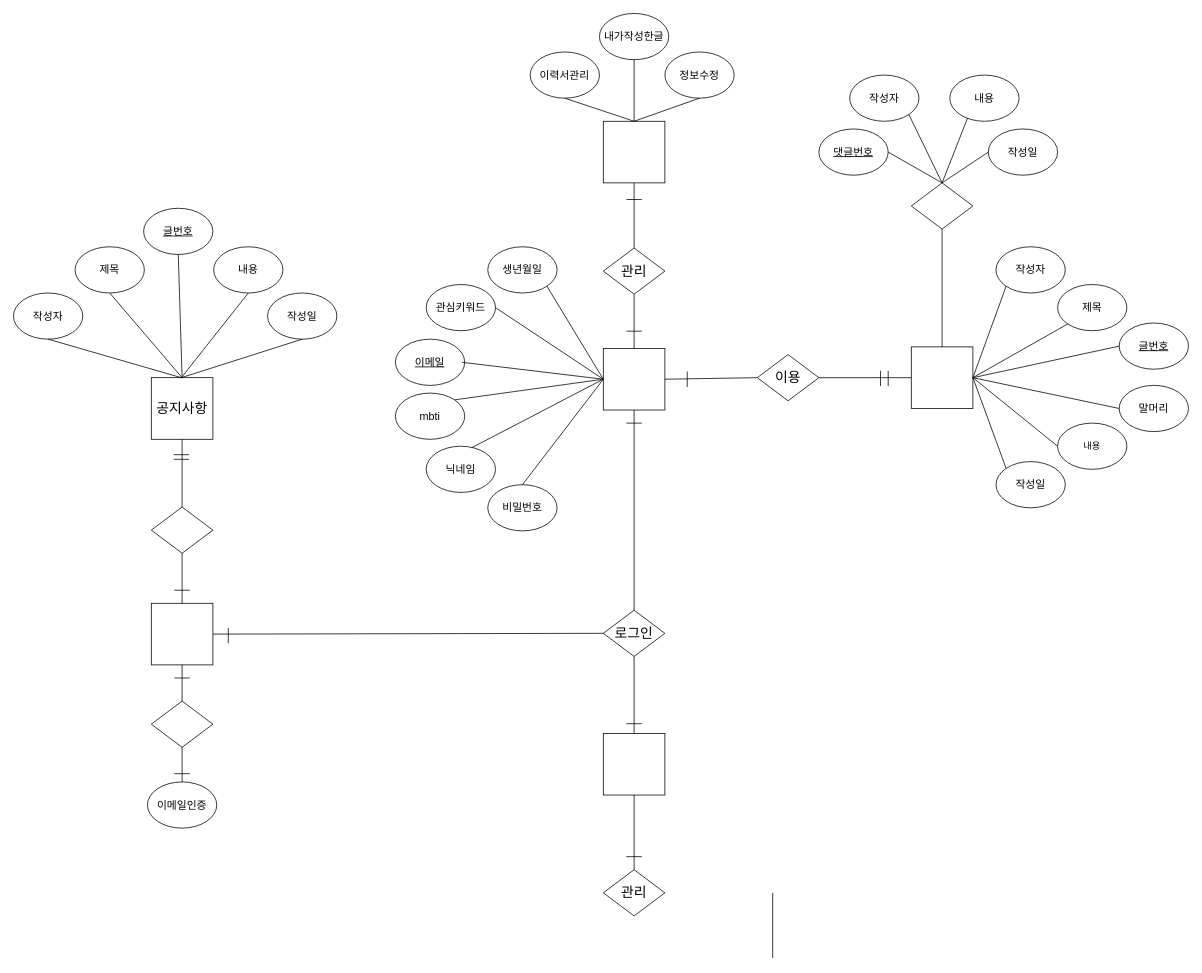
Some shapes in this 1202 by 973 pixel diagram are drawn without their labels. Here are the shapes that lost their labels. From the top down, the box of each, then its label:
(603, 121, 665, 183): 마이 페이지
(911, 182, 973, 229): 댓글
(603, 348, 665, 410): 일반회원
(911, 346, 973, 408): 커뮤니티 게시판
(151, 506, 213, 553): 조회
(151, 603, 213, 665): 이용자 (비회원)
(151, 700, 213, 747): 가입
(603, 733, 665, 795): 관리자
